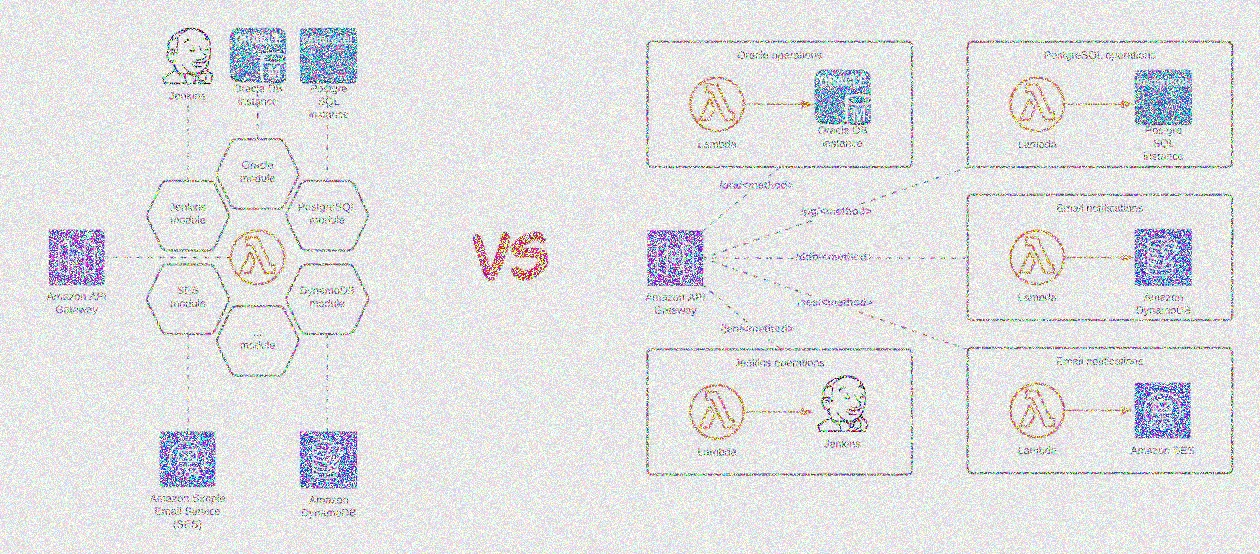API-Gateway: (42, 222, 111, 291), (642, 220, 710, 290)
Dynamo DB: (299, 417, 361, 495), (1132, 225, 1200, 295)
Jenkins: (158, 21, 218, 89), (815, 368, 876, 434)
Lambda: (685, 64, 757, 135), (1006, 221, 1076, 290), (1003, 70, 1074, 136), (682, 377, 751, 442), (1003, 375, 1070, 440), (228, 224, 291, 292)
RDS: (808, 60, 877, 128), (228, 22, 292, 89)
SES: (1128, 374, 1198, 444), (153, 425, 226, 492)
